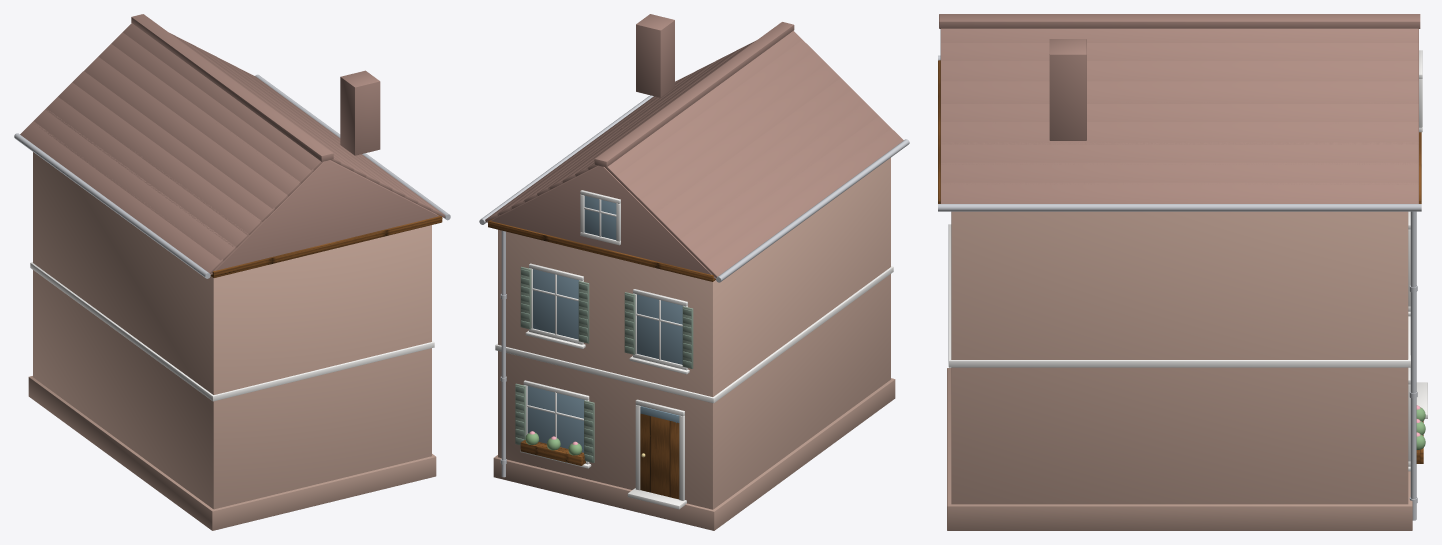
Rendered from th37_reihenhaus.glb.
3 renders of one model, left to right at view 1: azimuth 30°, elevation 25°; view 2: azimuth 150°, elevation 25°; view 3: azimuth 270°, elevation 25°, orthographic. The views are drawn at different scales.
Visible parts, largest first — view 1: Cube.001, Giebel, Cube, Cube.047, Cube.045, Cube.043, Cube.044, Cube.048, Cube.042, Cube.049, Cube.046, Cube.060 (+13 smaller); view 2: Cube.001, Cube, Giebel, Cube.047, Cube.045, Cube.044, Cube.042, Cube.048, Cube.043, Cube.046, Cube.049, Cube.060 (+23 smaller); view 3: Cube.001, Cube, Cube.051, Cube.052, Cube.054, Cube.056, Cube.053, Cube.057, Cube.055, Cube.058, Cube.060, Cube.059 (+5 smaller).
Part boxes in pixels (x1,y1,x2,y2): Cube.001: (33, 152, 431, 509); Giebel: (210, 160, 442, 274); Cube: (28, 376, 436, 530); Cube.047: (84, 56, 288, 210); Cube.045: (58, 82, 262, 235); Cube.043: (32, 108, 236, 260); Cube.044: (45, 97, 249, 248); Cube.048: (98, 44, 300, 196); Cube.042: (20, 121, 223, 273); Cube.049: (111, 32, 313, 184); Cube.046: (72, 71, 275, 222); Cube.060: (131, 14, 333, 161); Cube.001: (498, 158, 890, 509); Cube: (493, 378, 895, 530); Giebel: (487, 165, 715, 278); Cube.047: (639, 64, 840, 214); Cube.045: (665, 89, 864, 240); Cube.044: (678, 102, 878, 252); Cube.042: (703, 127, 903, 277); Cube.048: (627, 51, 826, 201); Cube.043: (690, 116, 891, 266); Cube.046: (652, 78, 851, 226); Cube.049: (614, 40, 813, 188); Cube.060: (594, 22, 794, 167); Cube.001: (951, 211, 1408, 504); Cube: (947, 368, 1412, 530); Cube.051: (940, 182, 1418, 203); Cube.052: (940, 162, 1418, 184); Cube.054: (940, 122, 1418, 144); Cube.056: (940, 81, 1418, 103); Cube.053: (940, 142, 1418, 164); Cube.057: (940, 61, 1418, 81); Cube.055: (940, 102, 1418, 121); Cube.058: (940, 43, 1418, 60); Cube.060: (939, 14, 1420, 28); Cube.059: (940, 28, 1418, 42).
Bounding box in the file's own units: 6.74 × 9.7 × 9.22.
Materials: 13 (1 with a texture image).
